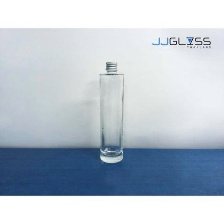bottle: (96, 57, 130, 165)
